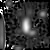node: (21, 17, 32, 34), (38, 10, 48, 19), (5, 1, 12, 7)
